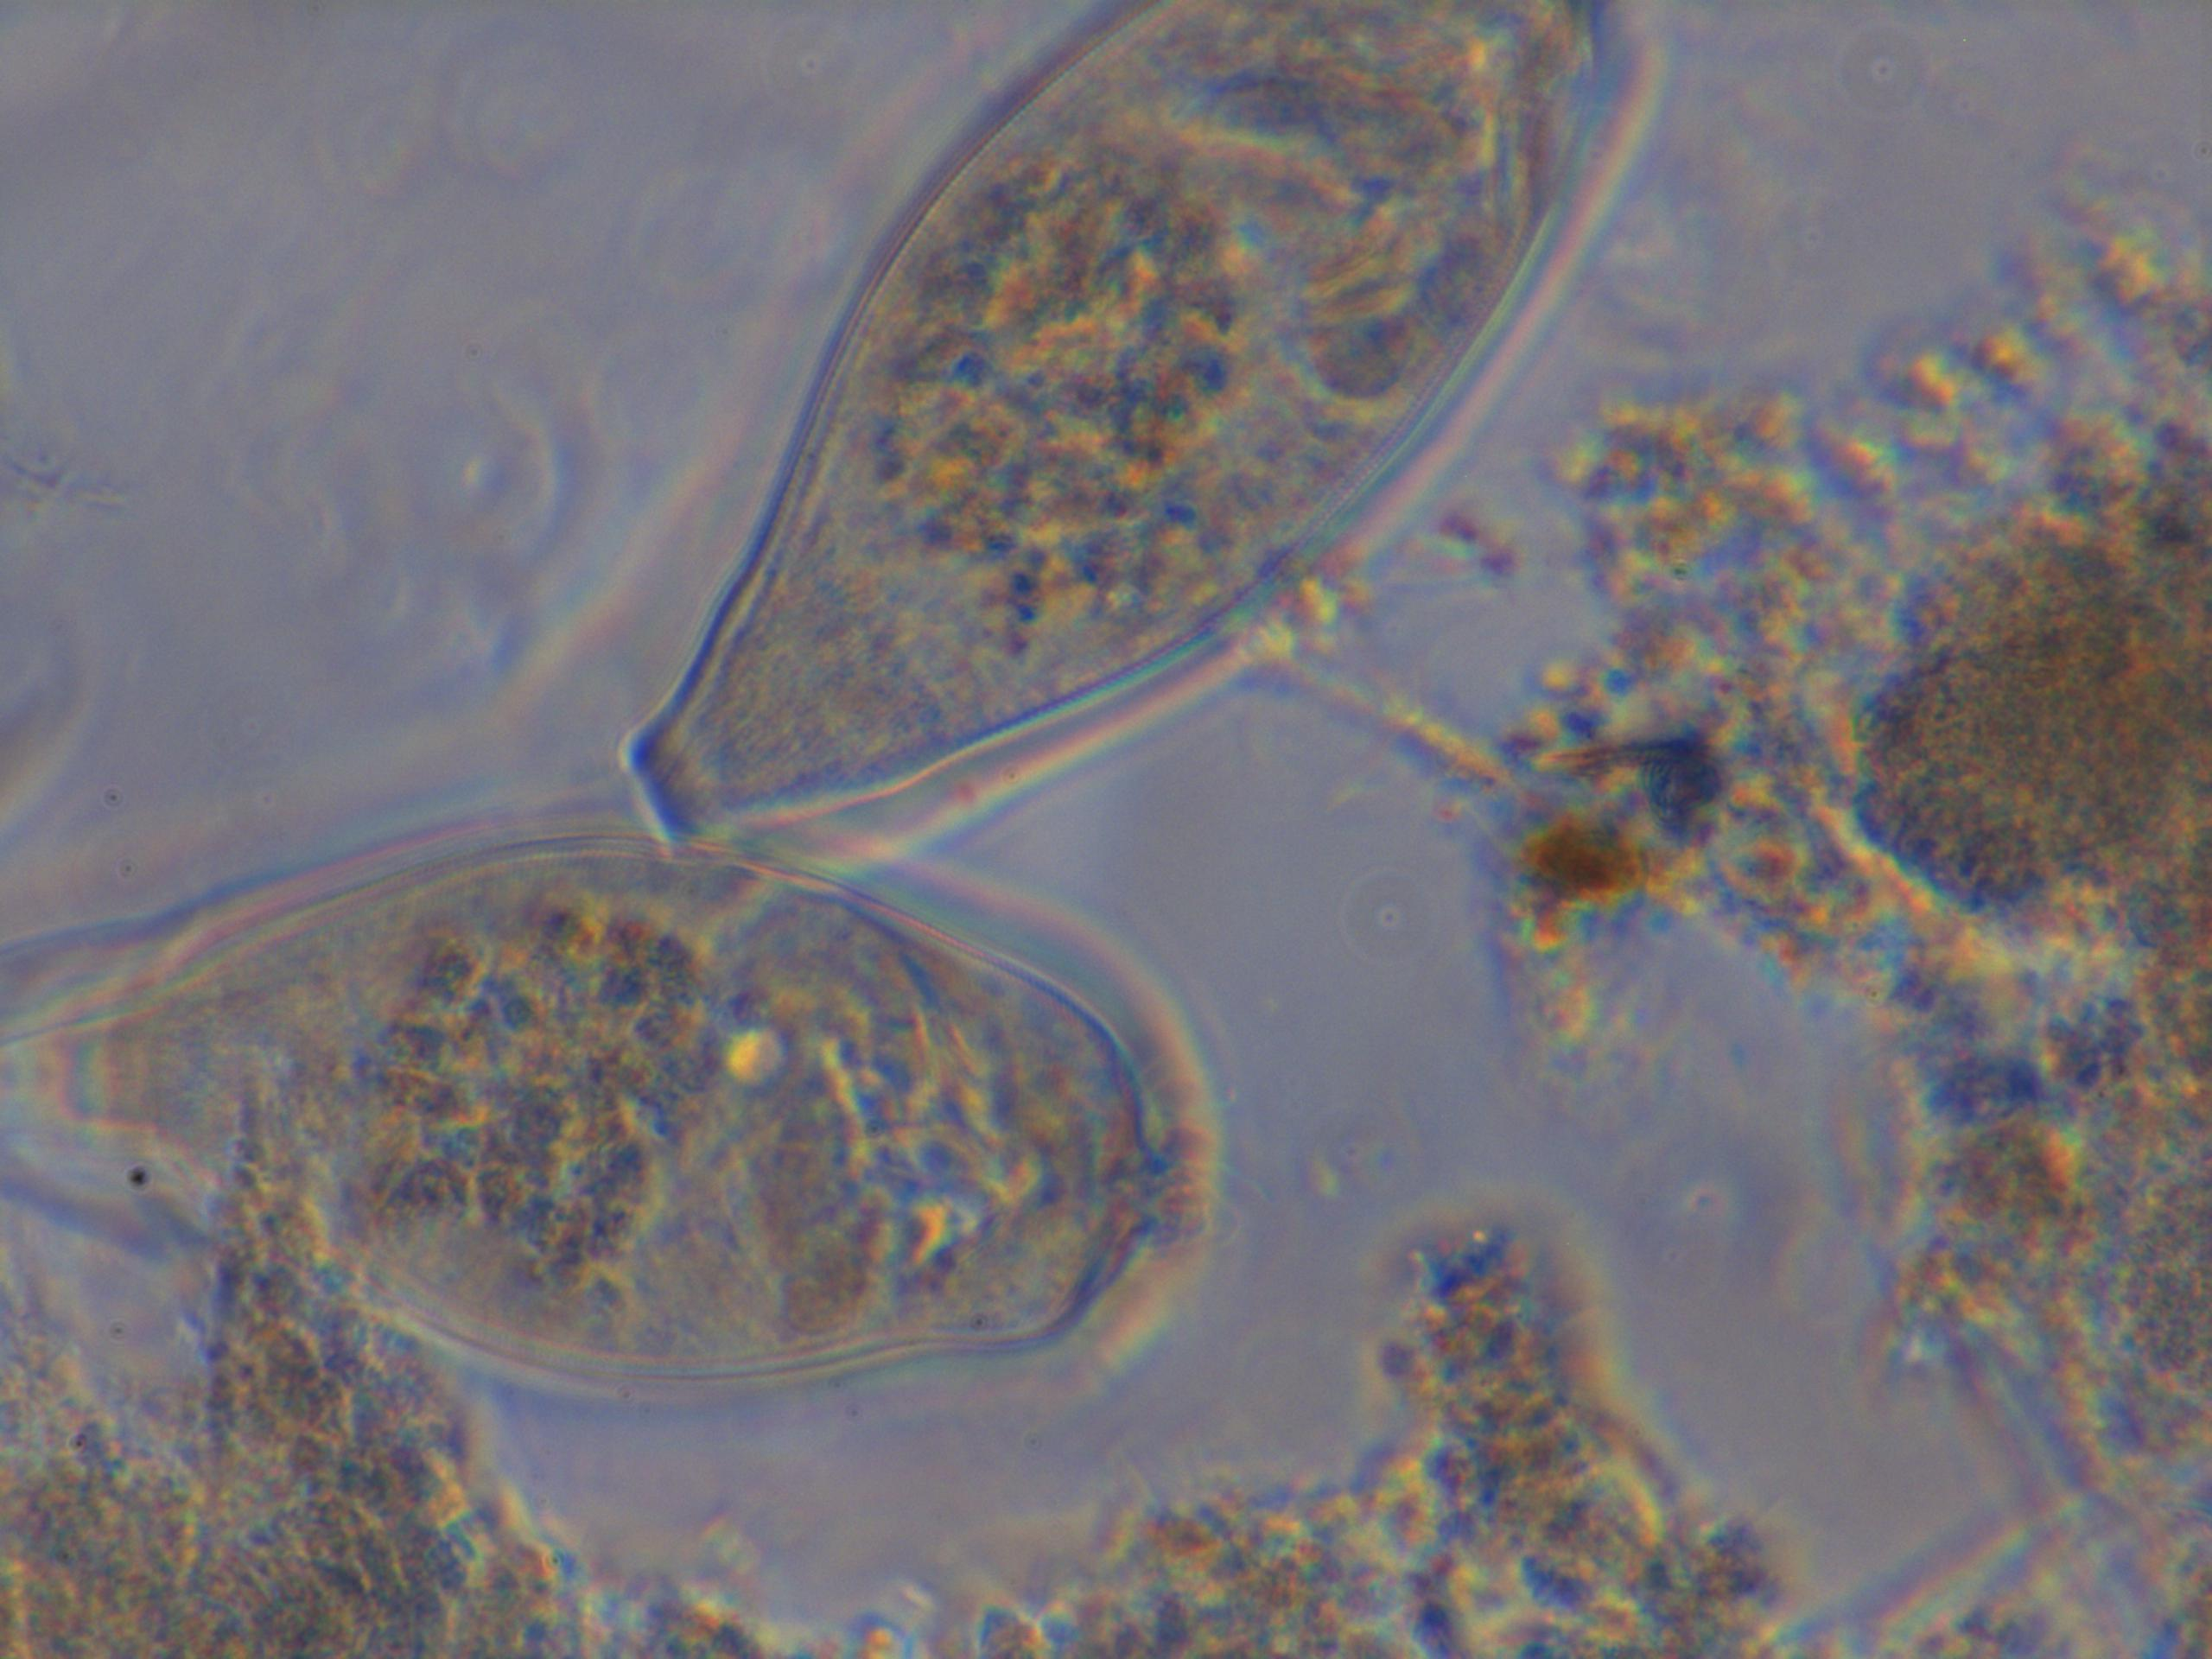protozoa: (0, 0, 1639, 1391)
